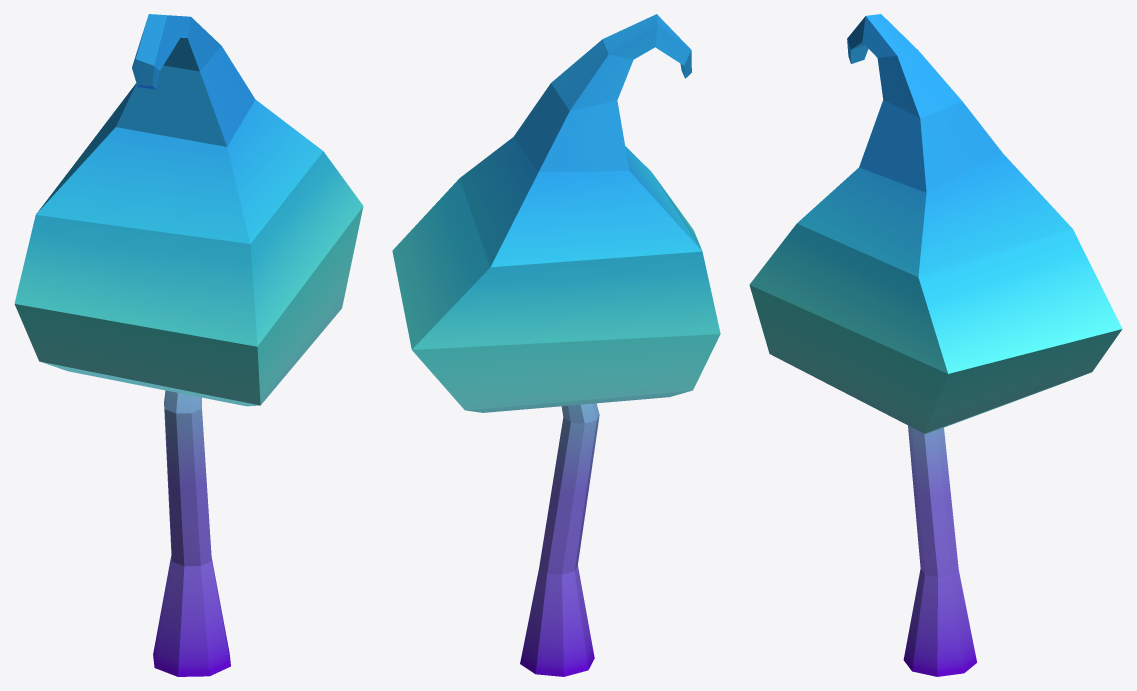
Rendered from glow fungus.fbx.
3 views of the same model, side by side, from view 1: azimuth 30°, elevation 25°; view 2: azimuth 150°, elevation 25°; view 3: azimuth 270°, elevation 25° (orthographic). The views are drawn at different scales.
Parts seen in each view (by area): view 1: Glow fungus.002; view 2: Glow fungus.002; view 3: Glow fungus.002.
Part boxes in pixels (box(x1,y1,x2,y2)): Glow fungus.002: box(14, 14, 363, 676); Glow fungus.002: box(392, 14, 720, 676); Glow fungus.002: box(749, 14, 1122, 676).
Bounding box in the file's own units: 62.57 × 117 × 64.17.
1 material, 1 textured.
